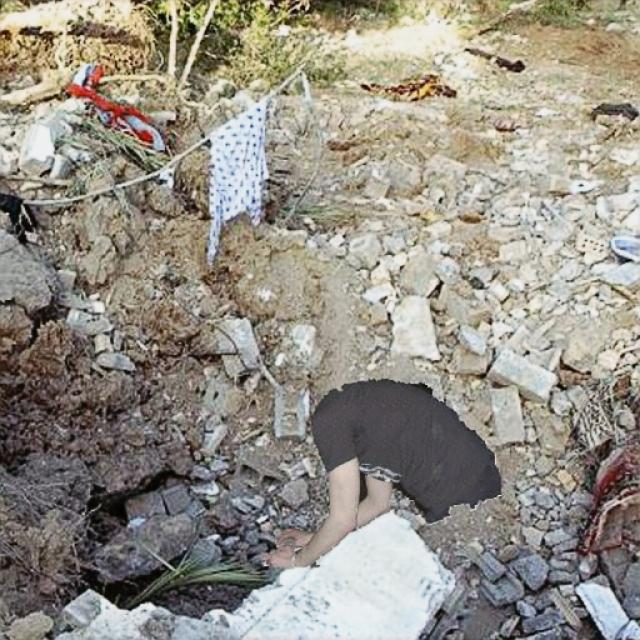Person in Rubble: (262, 378, 500, 566)
